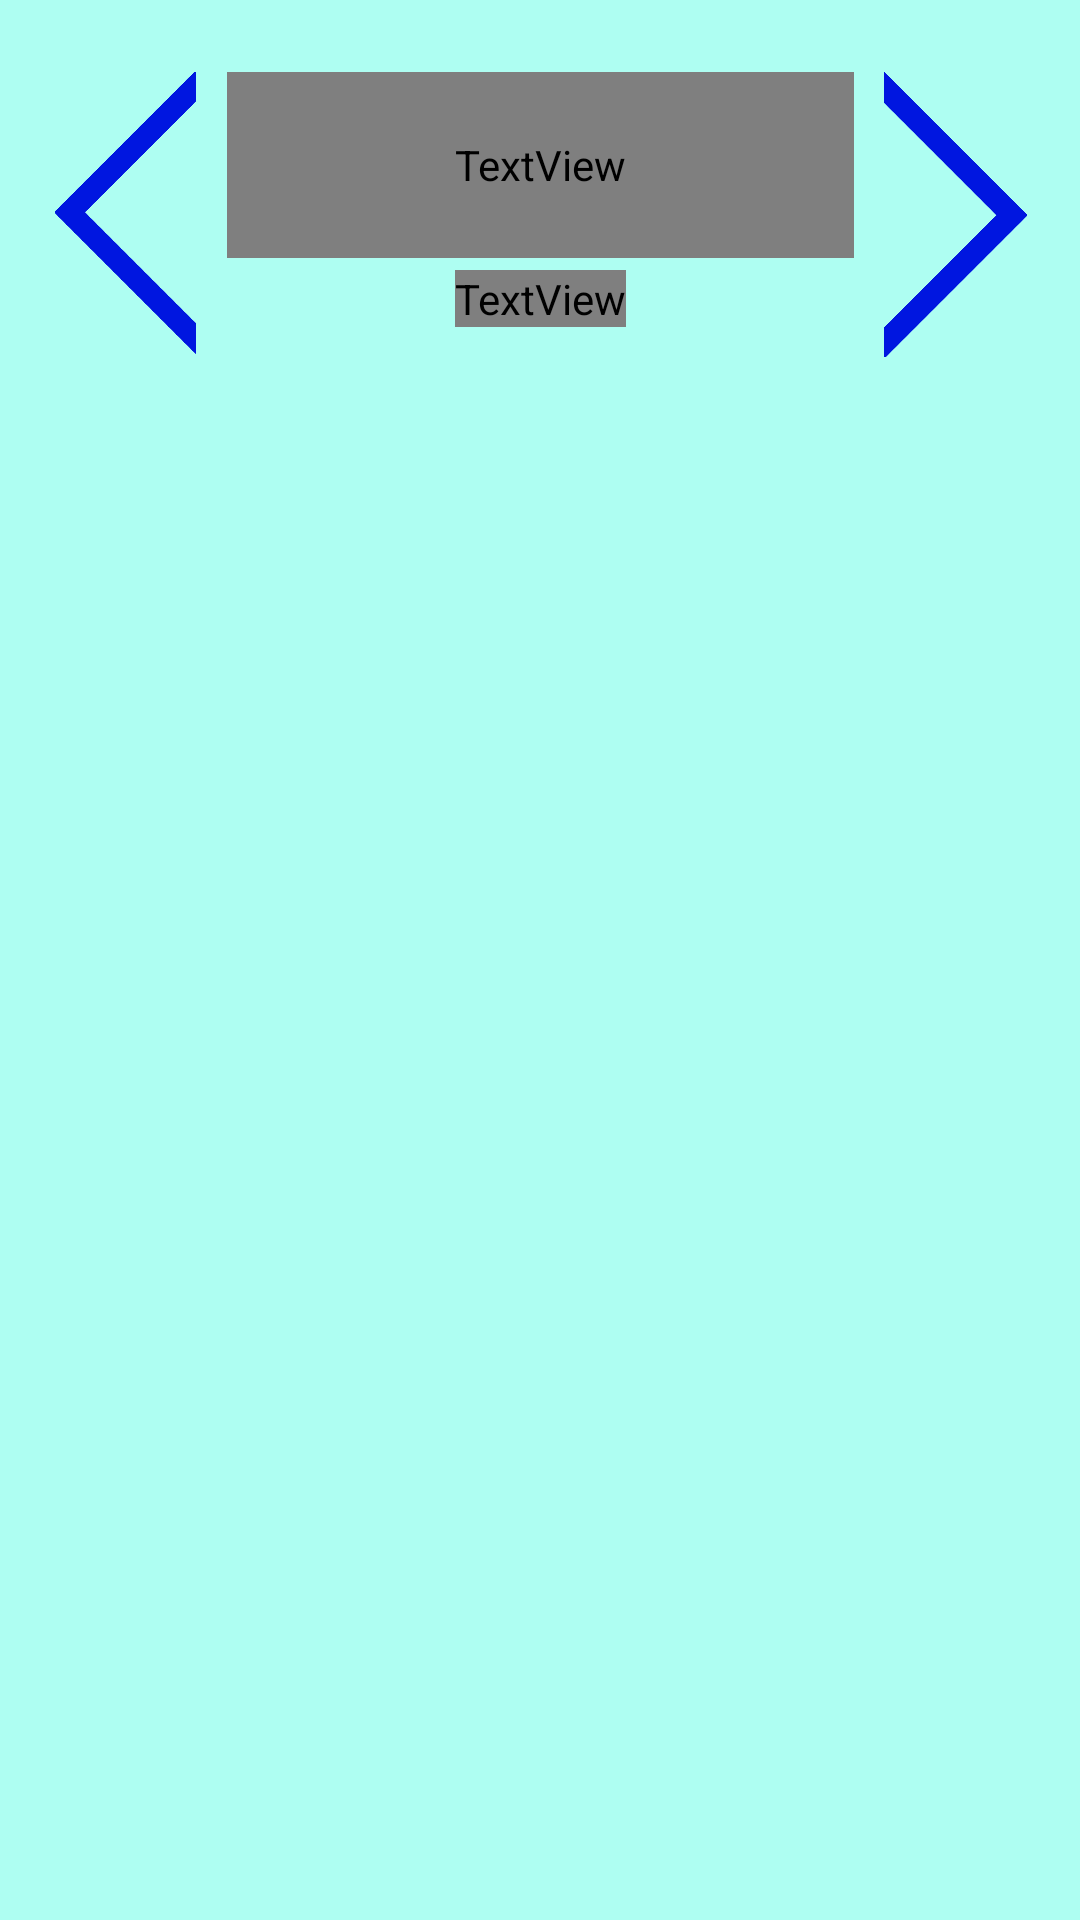

Point at icon controls on the screen. Image size 1080 x 1920, points as (x=x, y=y).
opaqueleftarrow: (x=125, y=213)
opaquerightarrow: (x=955, y=214)
